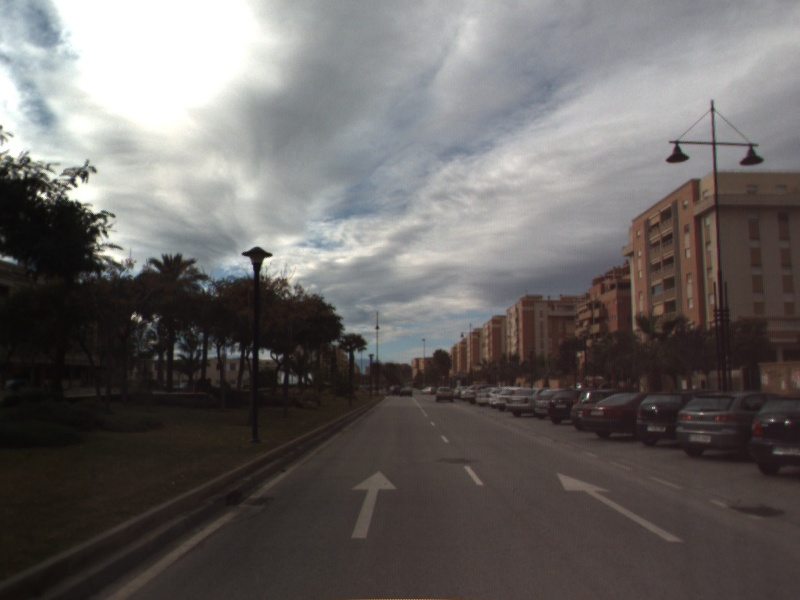STRAIGHT: (555, 471, 685, 544), (349, 469, 399, 540)
